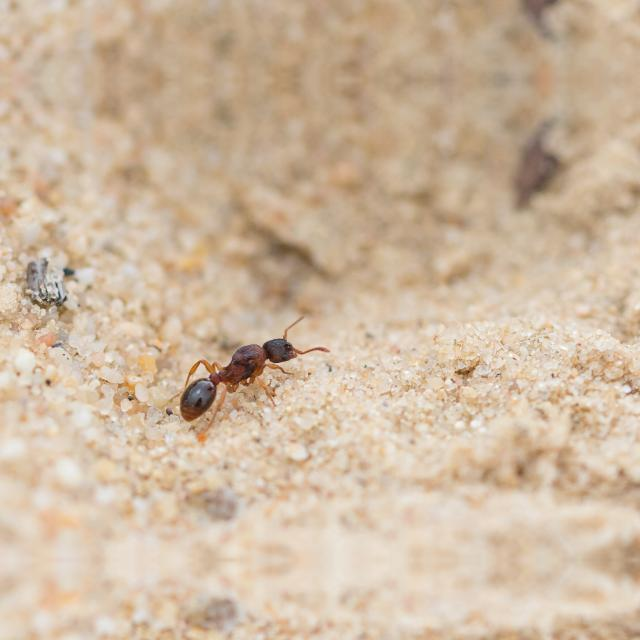Myrmica: (177, 324, 346, 422)
